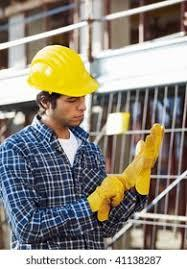gloves: (85, 159, 136, 221), (133, 122, 165, 197)
